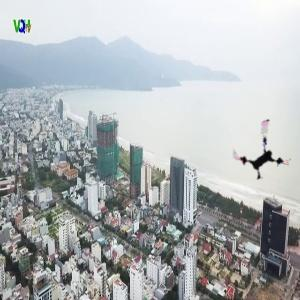drone: (231, 120, 296, 185)
